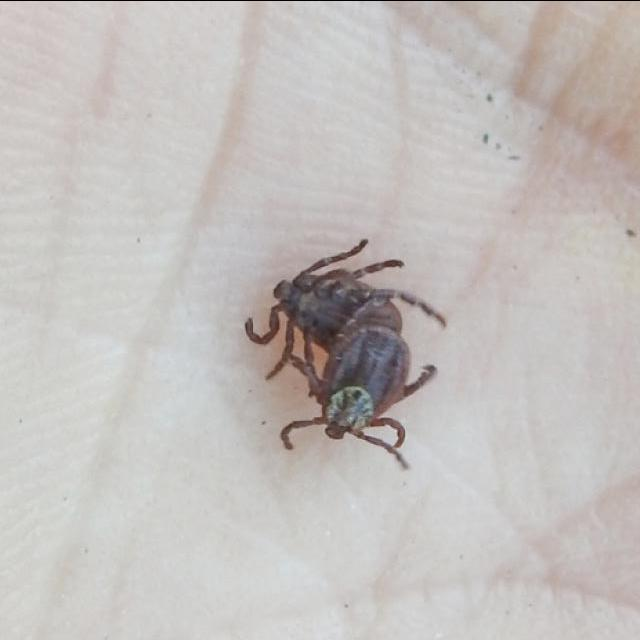Dermacentor Reticulatus-F: (281, 323, 437, 467)
